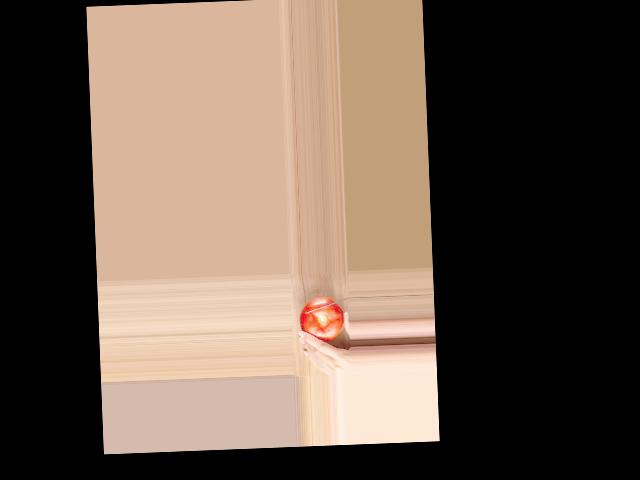tomato: (299, 296, 345, 342)
